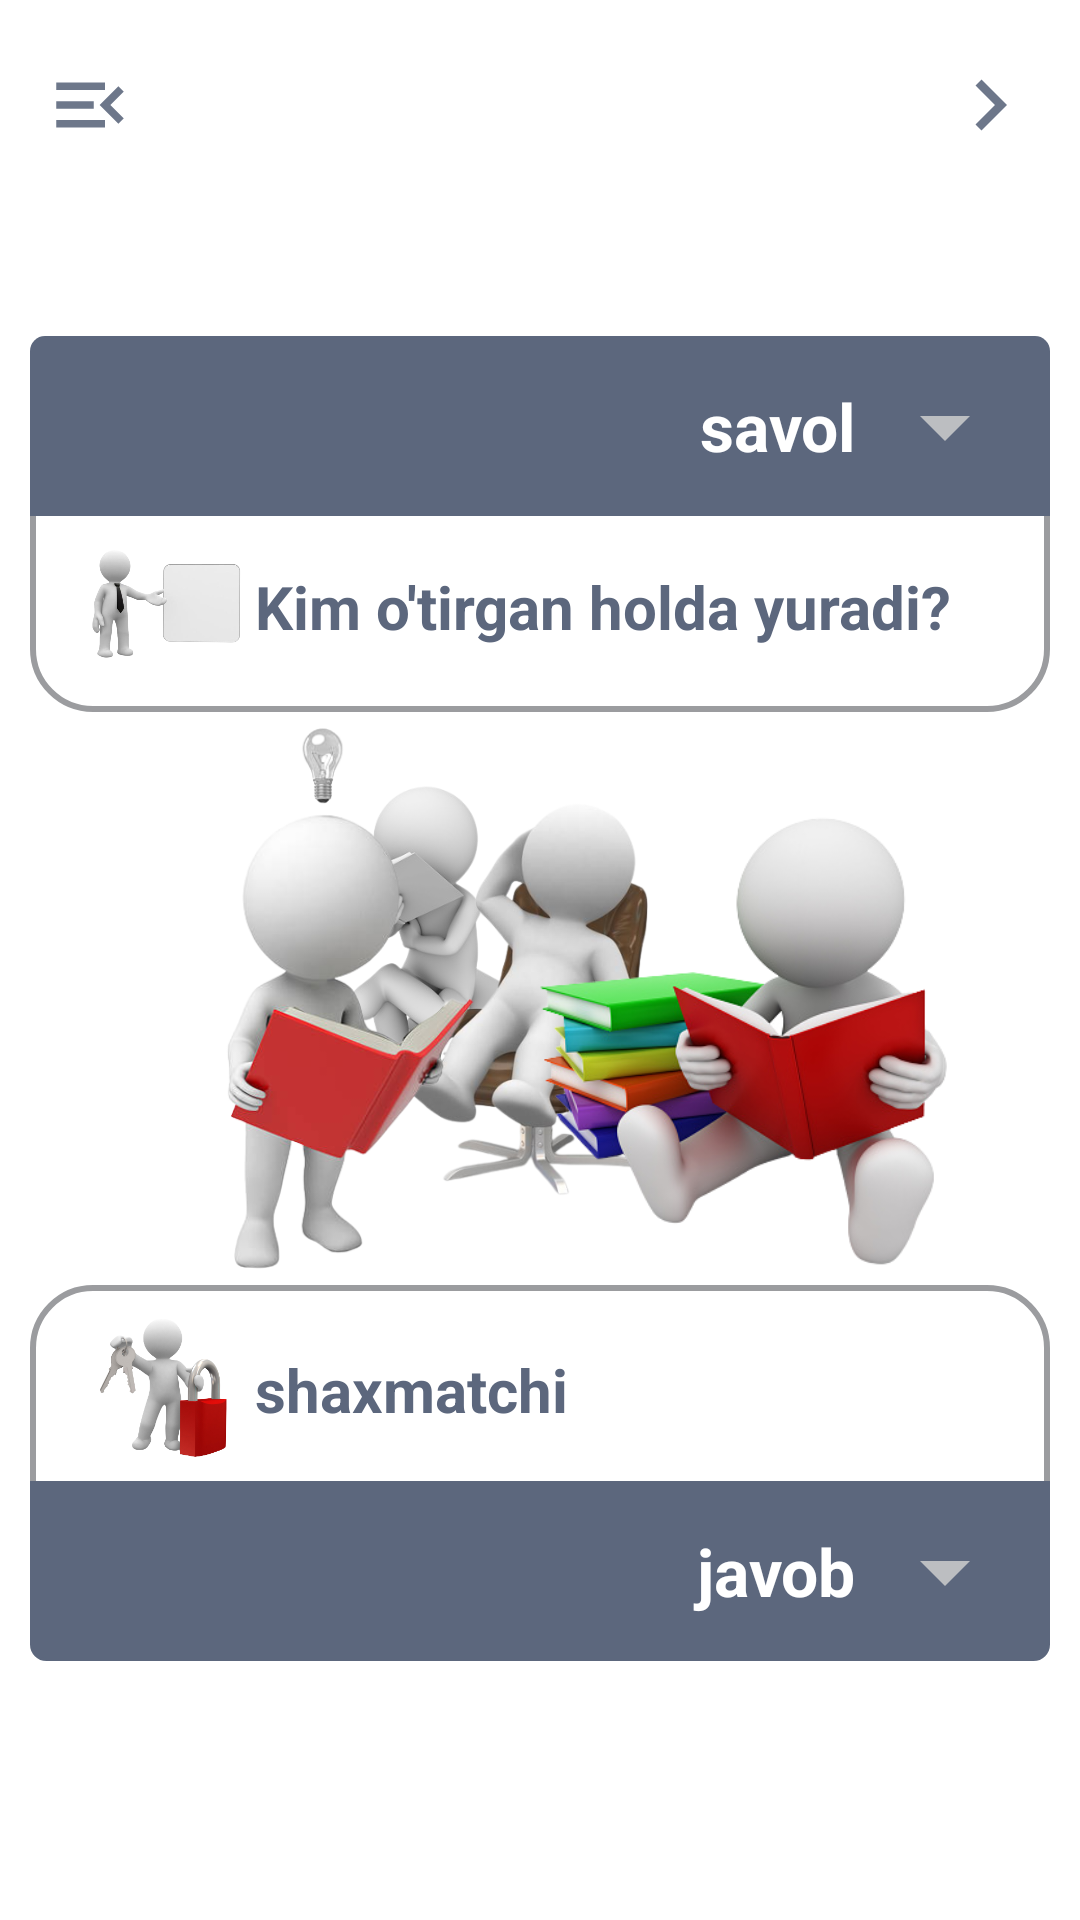

Where icons sit on this 1080 x 1920 app screen, as box(x1, y1, x2, y2):
arrow drop down: box(920, 416, 970, 441), box(920, 1561, 970, 1586)
navigate next: box(975, 79, 1007, 131)
personkey: box(100, 1326, 227, 1457)
personteacher: box(92, 556, 240, 658)
